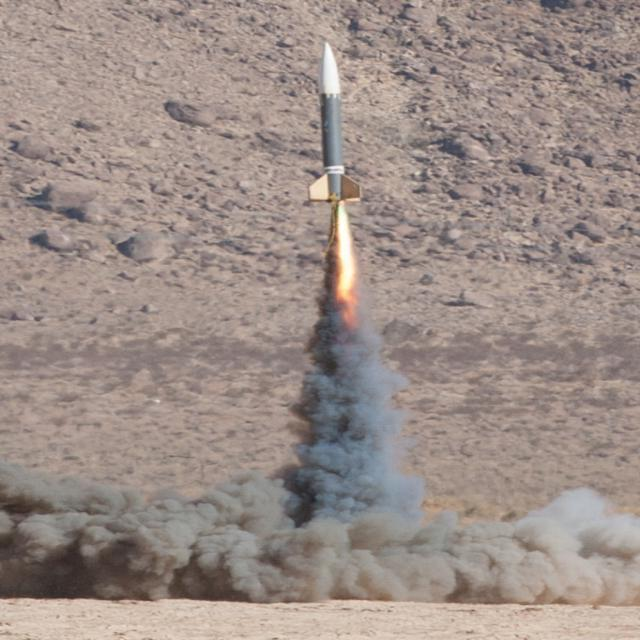Missile: (310, 42, 360, 218)
